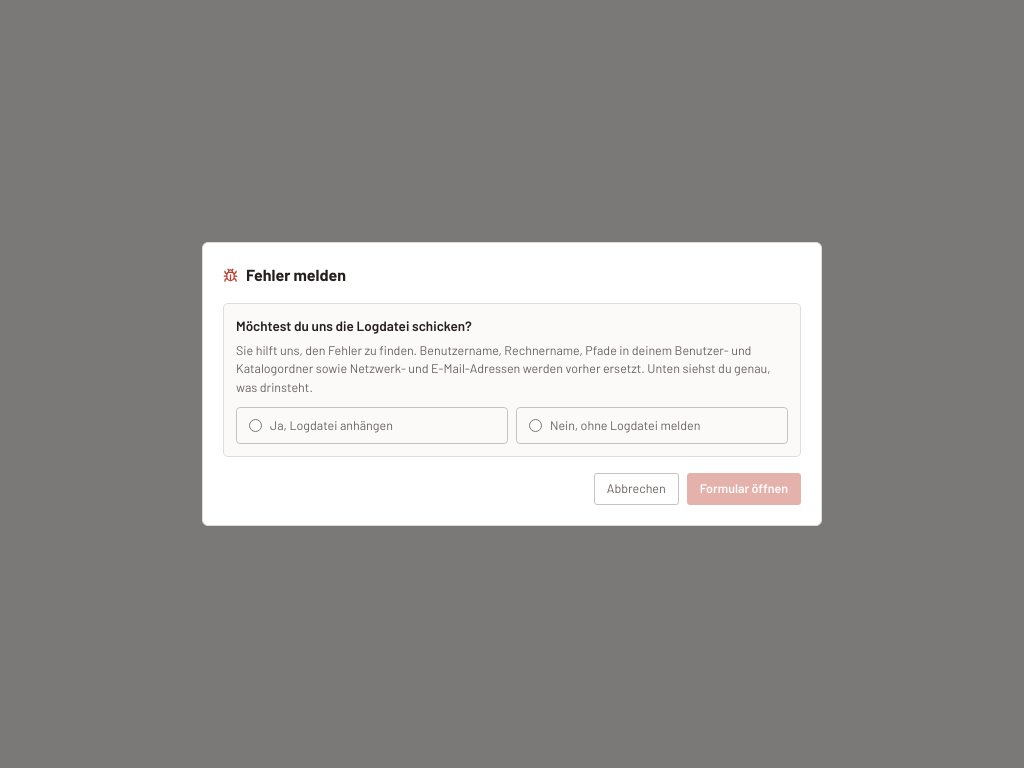
Test: BugReportDialog › loads and shows the anonymized preview when "Yes" is chosen
Click the text "Ja, Logdatei anhängen".
click(372, 425)  # box [236,407,508,444]
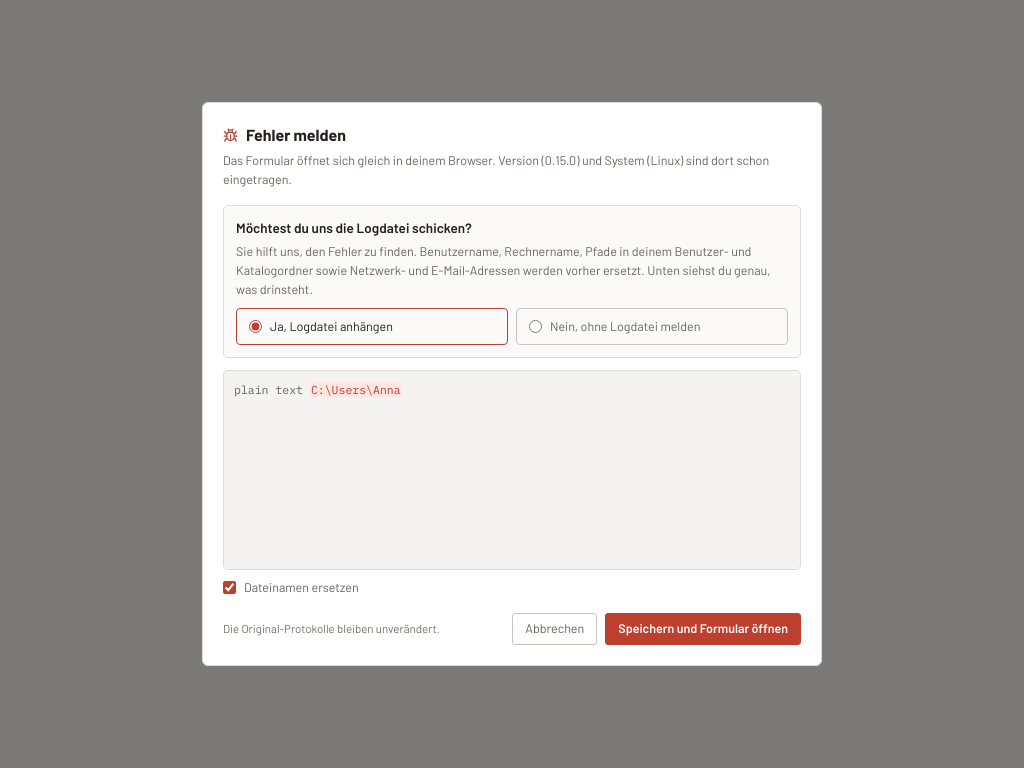
Expected: the checkbox is checked, [223,581,236,594]
